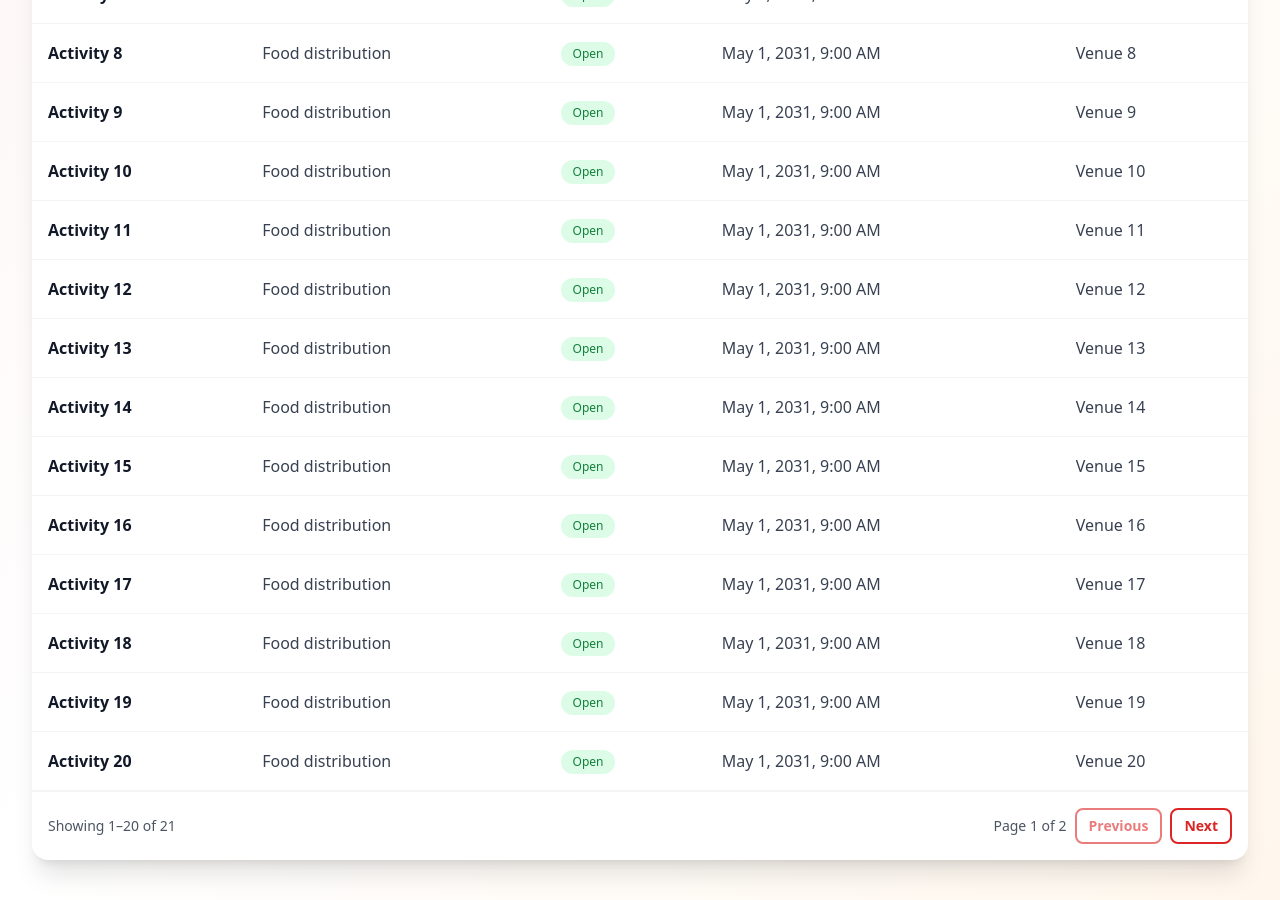
Test: admin Activities list › restores its state from the URL and pages
(page scrolled)
What coordinates should you click on to do the following:
click the button "Next"
I would click on:
 (1201, 826)
Its box is [1170,808,1232,844].
(page scrolled)
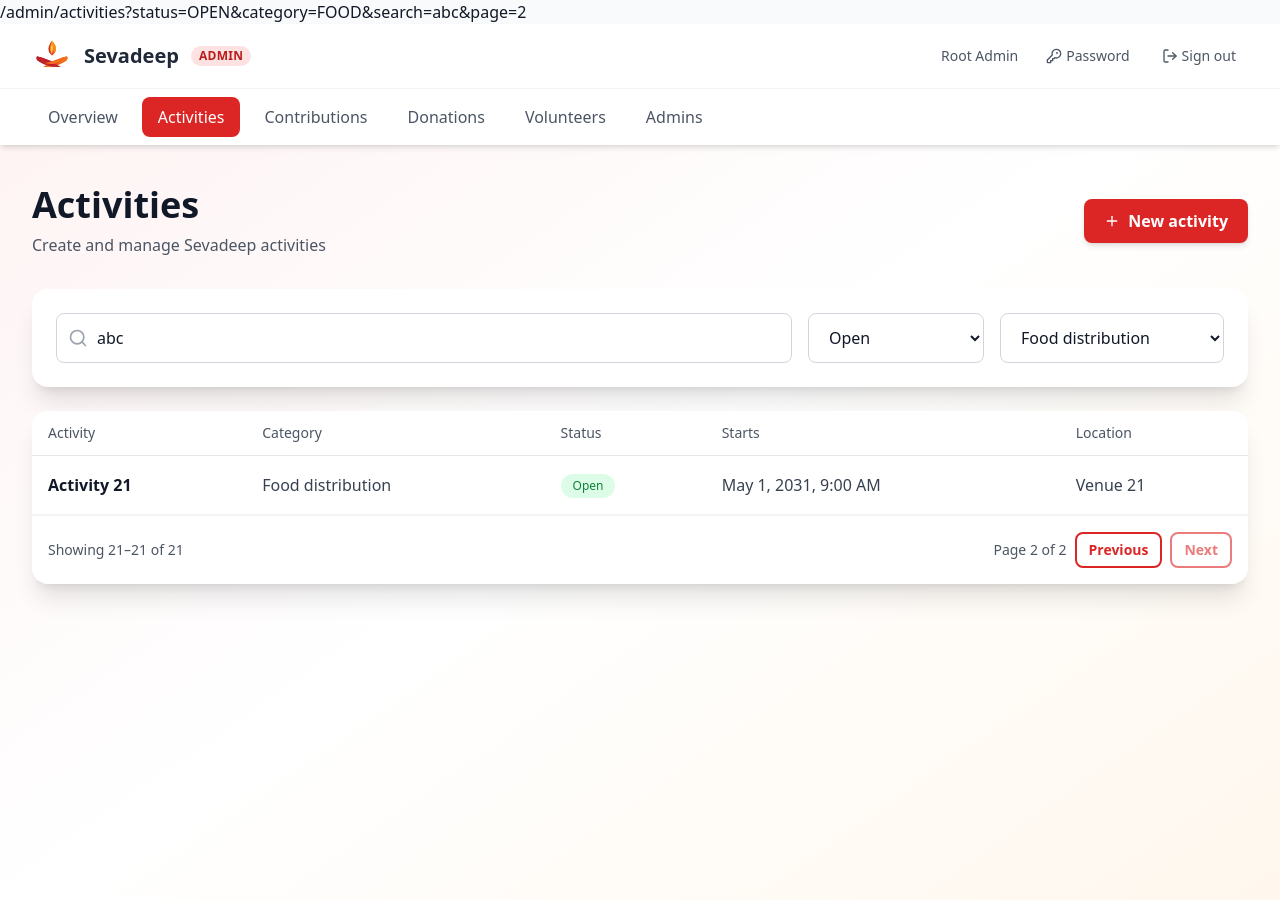
Expected: the link "Activity 21" is shown, [48,474,132,496]
Expected: the text with test id "location" shows "page=2", [0,1,526,23]
